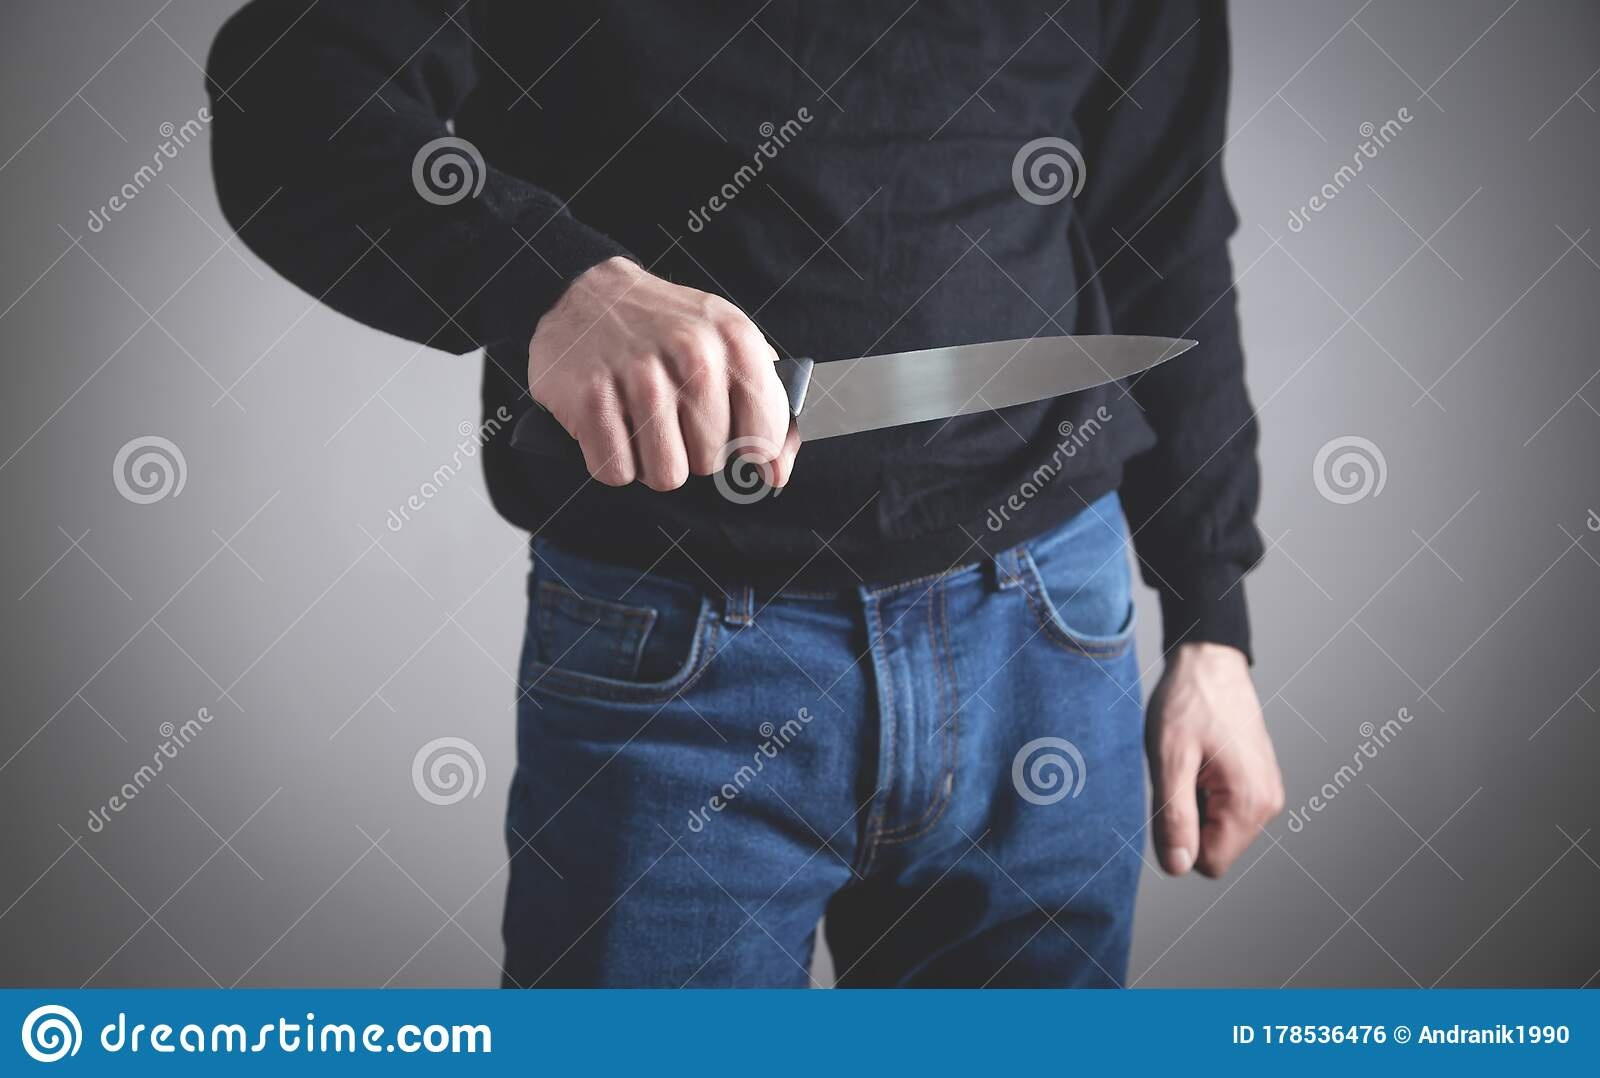knife: (771, 332, 1203, 445)
